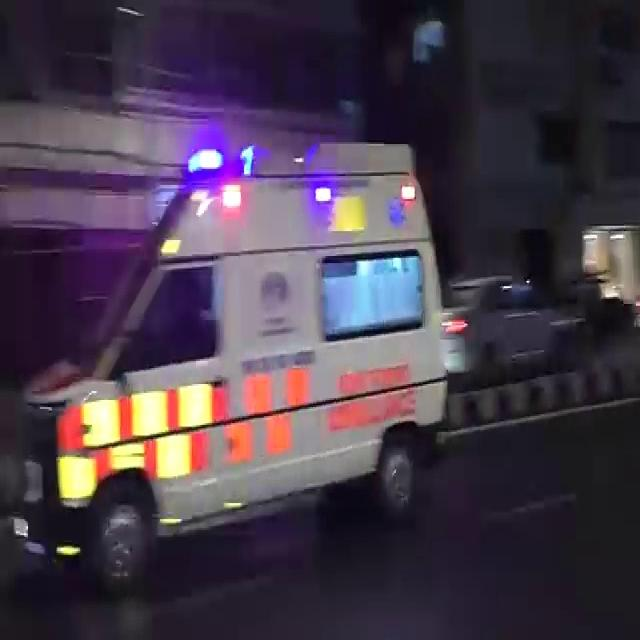ambulance: (32, 149, 442, 534)
